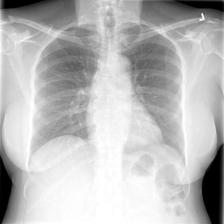normal: (23, 13, 192, 208)
